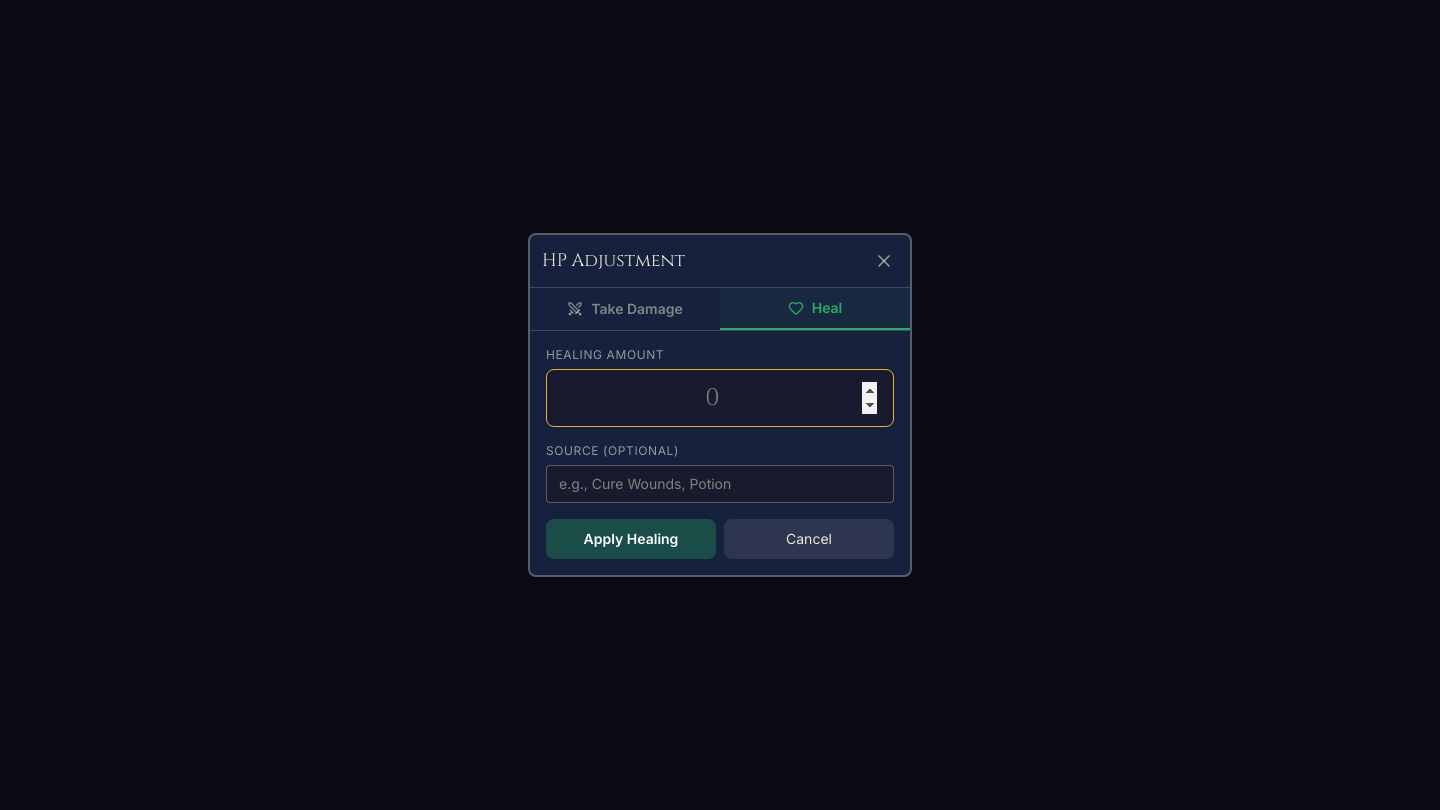
Test: DamageHealModal › shows stabilized message when healing from 0 HP
Type "5" into the number field with test id "hp-amount-input". click: (720, 398)
box: x1=546 y1=369 x2=894 y2=427
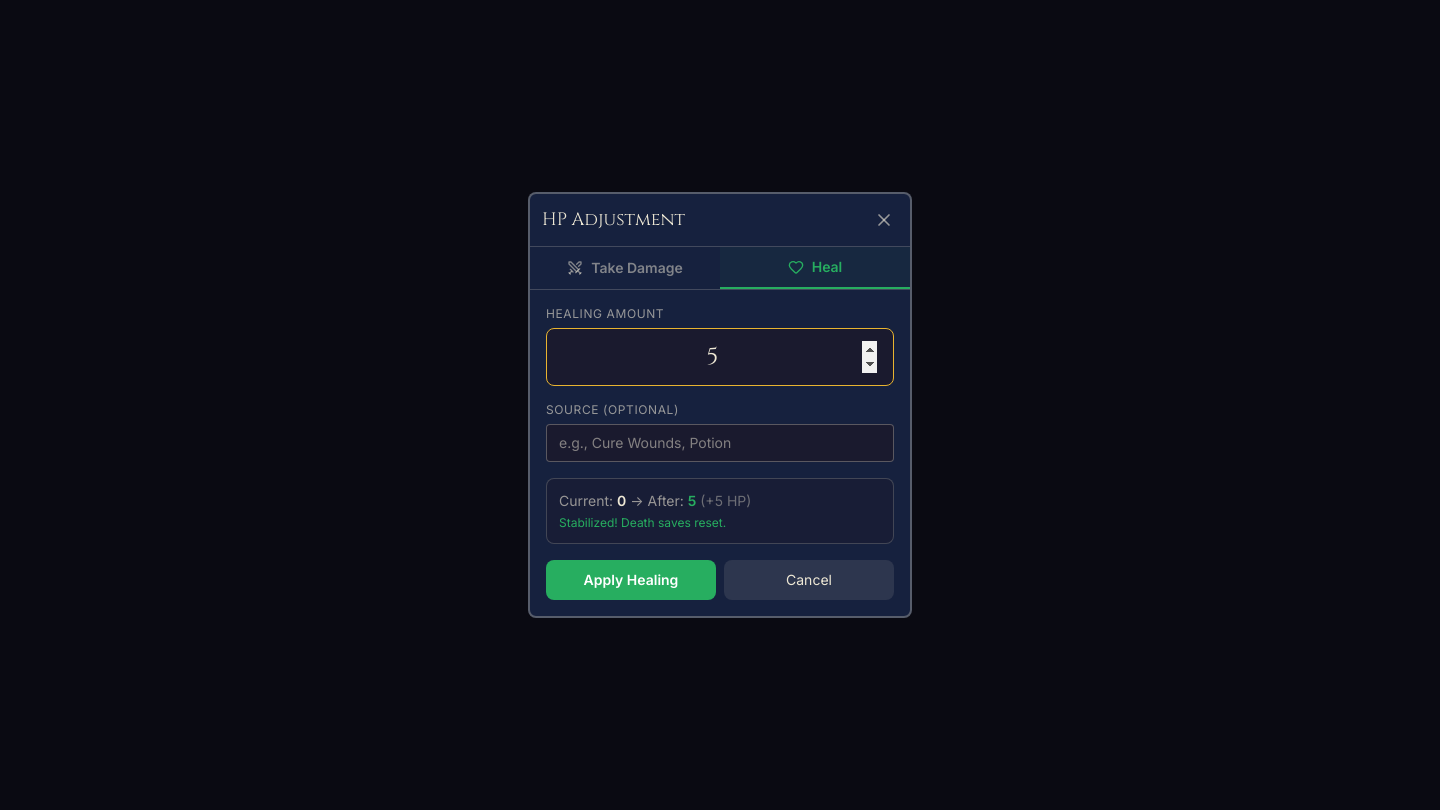
Now the text "Stabilized! Death saves reset." is shown, box x1=559 y1=515 x2=726 y2=530
